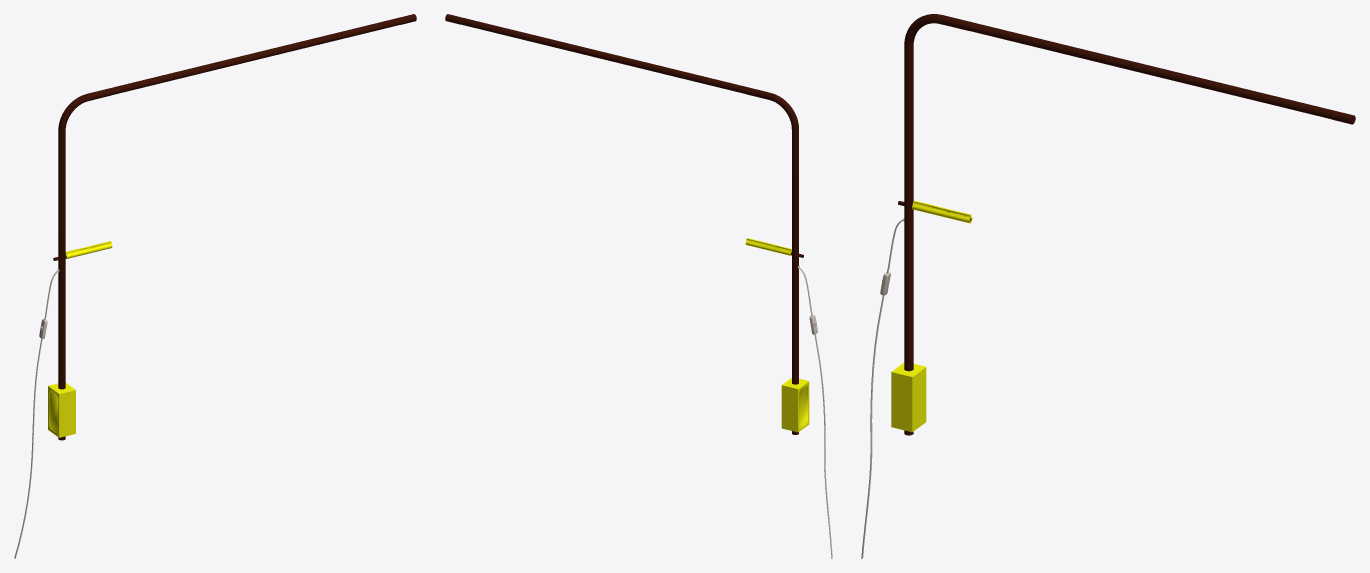
Rendered from designconnected-quille-desk-lamp-8203.optimized.glb.
3 renders of one model, left to right at view 1: azimuth 30°, elevation 25°; view 2: azimuth 150°, elevation 25°; view 3: azimuth 330°, elevation 25°, orthographic. The views are drawn at different scales.
Parts seen in each view (by area): view 1: Ligne_Roset_Quille_Desk_Lamp_01; view 2: Ligne_Roset_Quille_Desk_Lamp_01; view 3: Ligne_Roset_Quille_Desk_Lamp_01.
Boxes of the visible parts, x1,y1,x2,y2 form: Ligne_Roset_Quille_Desk_Lamp_01: (14,14,416,558); Ligne_Roset_Quille_Desk_Lamp_01: (445,14,832,558); Ligne_Roset_Quille_Desk_Lamp_01: (861,14,1355,558).
Bounding box in the file's own units: 1.22 × 1.33 × 0.0599.
